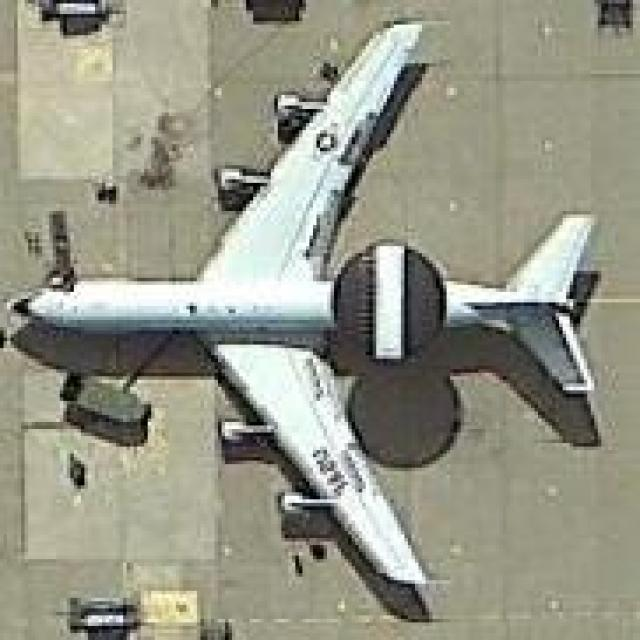E-3_TopDown: (4, 10, 608, 619)
